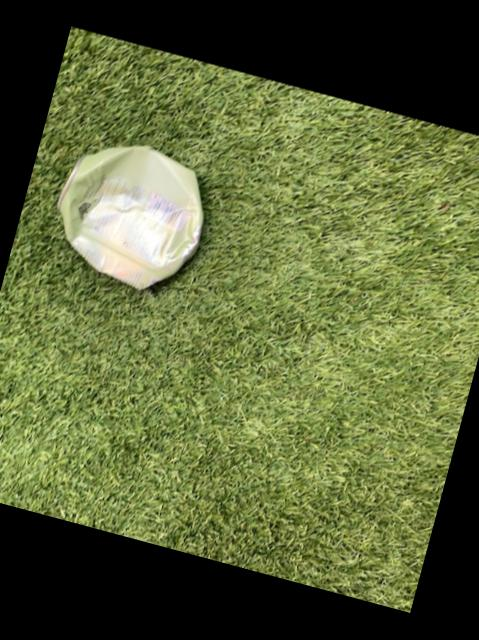metal: (54, 147, 199, 289)
